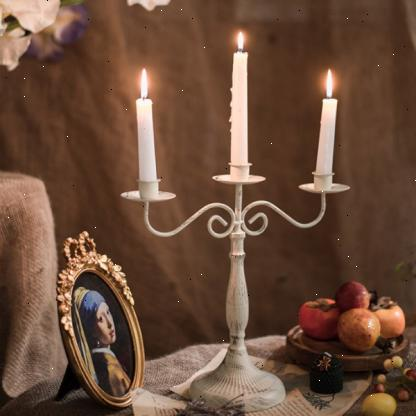fire: (129, 63, 154, 99), (312, 67, 336, 104), (225, 26, 249, 51)
